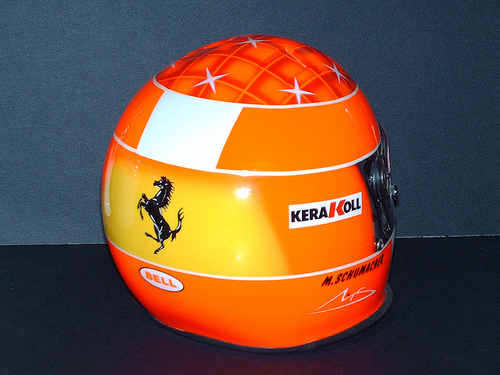helmet: (108, 52, 403, 333)
